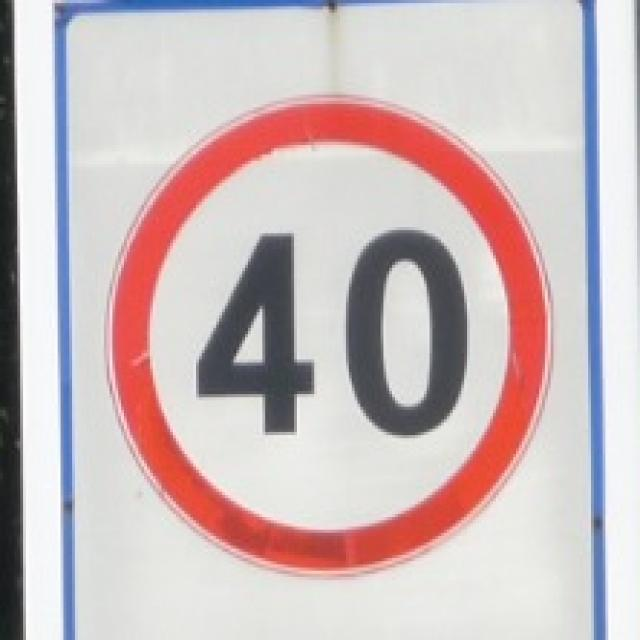Speed Limit -40-: (193, 230, 469, 437)
